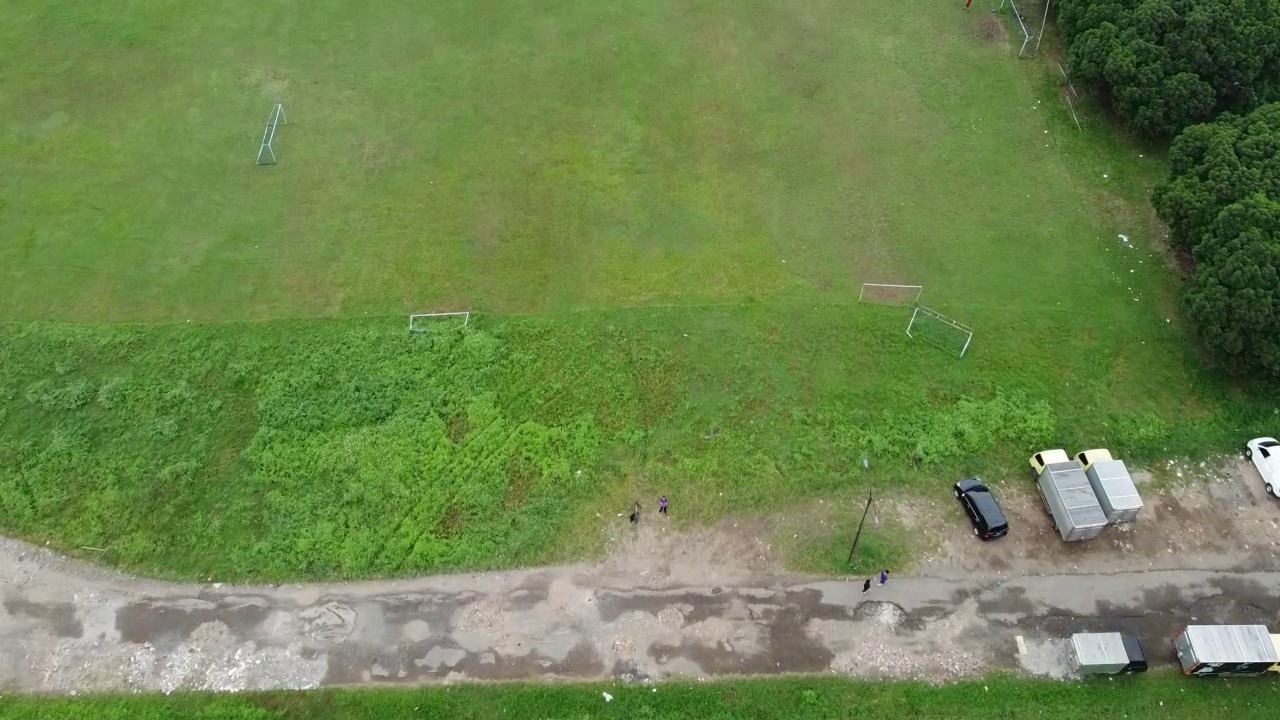mobil: (949, 471, 1015, 544), (1241, 420, 1280, 497)
